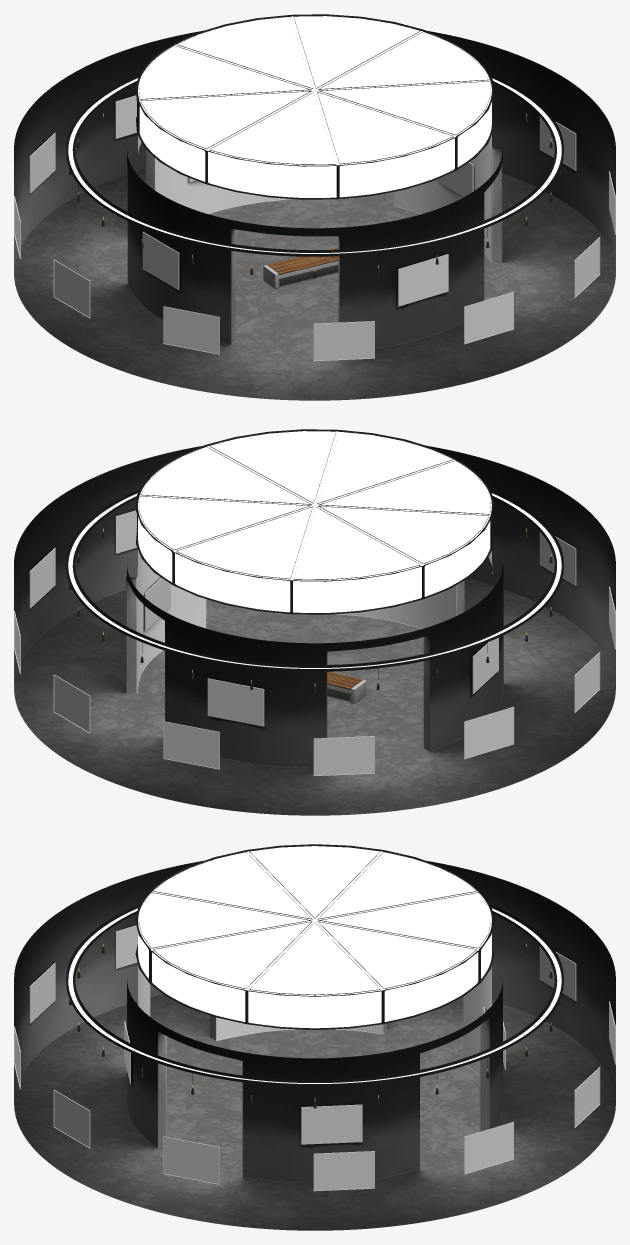
3 renders of one model, top to bottom at view 1: azimuth 30°, elevation 25°; view 2: azimuth 150°, elevation 25°; view 3: azimuth 270°, elevation 25°, orthographic.
Visible parts, largest first — view 1: Walls, PaitingsOutside, LampBase, CeillingWire, PaitingsInside.001, Bench, PaitingsInside; view 2: Walls, PaitingsOutside, LampBase, CeillingWire, PaitingsInside.001, Bench, PaitingsInside; view 3: Walls, PaitingsOutside, LampBase, CeillingWire, PaitingsInside.001.
Boxes of the visible parts, x1,y1,x2,y2 form: Walls: [14, 16, 615, 400]; PaitingsOutside: [14, 95, 615, 361]; LampBase: [66, 74, 563, 256]; CeillingWire: [135, 14, 494, 199]; PaitingsInside.001: [142, 232, 448, 306]; Bench: [263, 247, 338, 288]; PaitingsInside: [189, 162, 473, 196]; Walls: [14, 431, 615, 815]; PaitingsOutside: [14, 510, 615, 775]; LampBase: [66, 489, 563, 671]; CeillingWire: [135, 429, 494, 614]; PaitingsInside.001: [207, 637, 498, 726]; Bench: [327, 671, 366, 703]; PaitingsInside: [144, 578, 170, 630]; Walls: [14, 846, 615, 1230]; PaitingsOutside: [14, 925, 615, 1191]; LampBase: [66, 904, 563, 1086]; CeillingWire: [135, 844, 494, 1029]; PaitingsInside.001: [124, 1021, 505, 1144].
Bounding box in the file's own units: 16.39 × 5.51 × 16.4.
9 materials, 7 textured.
